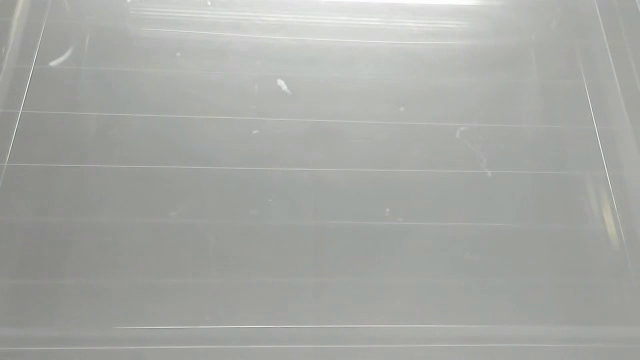alpha: (272, 75, 299, 99)
